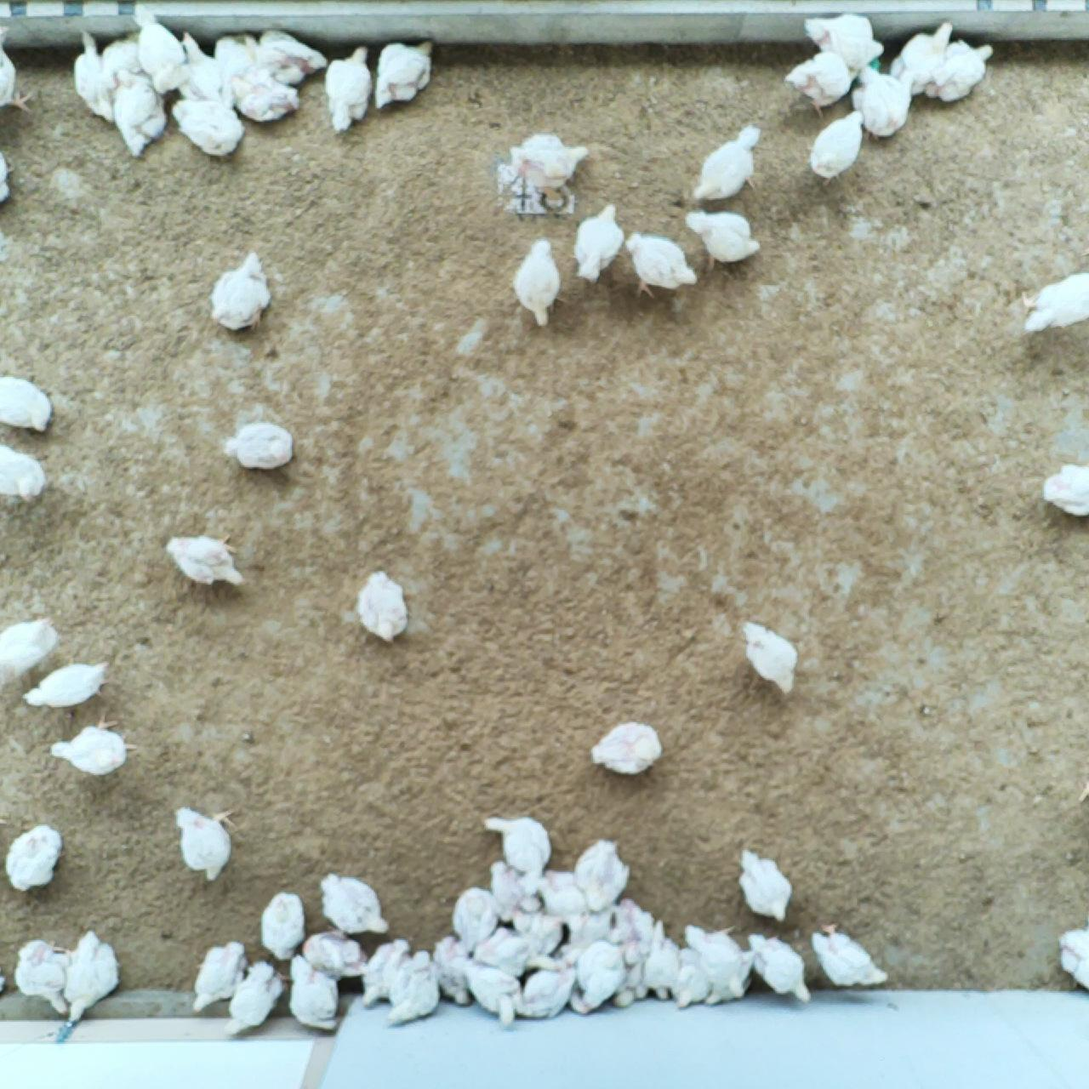chicken: (804, 918, 909, 991), (60, 925, 129, 1025), (506, 126, 594, 201), (49, 712, 139, 781), (217, 956, 291, 1037), (173, 800, 245, 883), (204, 248, 273, 334), (447, 951, 523, 1028), (689, 121, 763, 199), (736, 615, 801, 703), (164, 93, 249, 160), (916, 35, 998, 104), (732, 841, 801, 923), (21, 655, 118, 713), (108, 70, 170, 159), (168, 524, 244, 596), (483, 815, 557, 888), (369, 36, 440, 112), (887, 21, 957, 98), (127, 2, 185, 94), (1015, 265, 1089, 336), (623, 230, 698, 300), (681, 206, 762, 270), (745, 931, 816, 1004), (315, 869, 390, 938), (512, 235, 567, 329), (570, 933, 633, 1015), (850, 61, 912, 142), (222, 66, 304, 127), (571, 836, 632, 916), (803, 9, 884, 69), (12, 936, 71, 1018), (785, 50, 858, 116), (684, 925, 750, 998), (321, 43, 373, 135), (804, 106, 866, 182), (571, 198, 626, 283), (187, 938, 246, 1017), (1, 822, 65, 894), (590, 714, 663, 777), (383, 944, 439, 1026), (70, 26, 115, 128), (239, 30, 325, 83), (513, 955, 580, 1022), (0, 613, 63, 684), (287, 951, 340, 1035), (355, 567, 410, 647), (219, 418, 297, 474), (358, 936, 414, 1013), (485, 859, 544, 932), (507, 908, 570, 976), (559, 901, 618, 973), (171, 31, 231, 101), (292, 929, 371, 982), (465, 924, 540, 979), (255, 886, 307, 964), (703, 942, 760, 1012), (94, 22, 151, 91), (637, 919, 685, 1000), (0, 371, 54, 436), (531, 866, 591, 924), (606, 895, 657, 963), (430, 932, 476, 1006), (0, 25, 40, 110), (214, 28, 259, 98), (670, 945, 717, 1011), (449, 886, 497, 948), (1038, 459, 1089, 517), (0, 440, 47, 500), (1054, 920, 1089, 998), (613, 953, 657, 1014), (0, 149, 17, 206)
